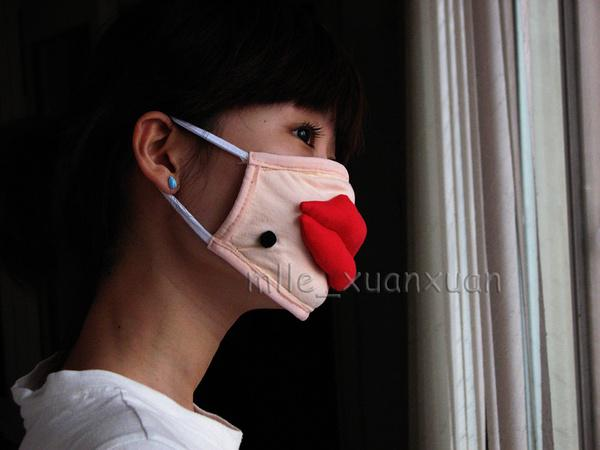OK: (133, 88, 356, 311)
